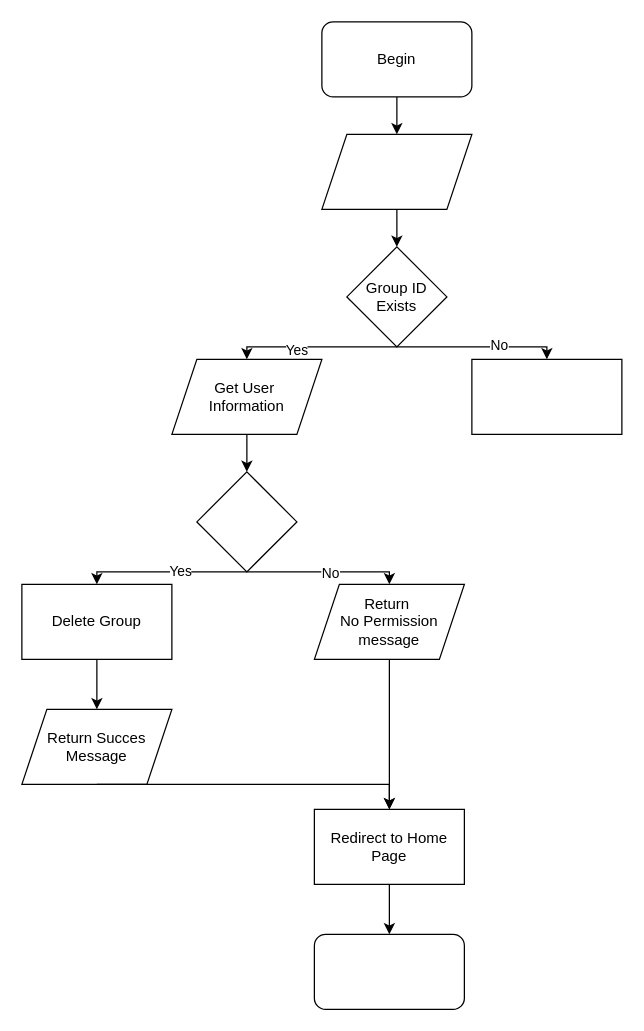
The diagram is 644 pixels wide and 1031 high, and some of its shapes have lost their labels. Here are the shapes that lost their labels. From the top down, the box of each, then its label:
(321, 133, 472, 209): Get Group ID
(471, 358, 622, 434): Return 404 Error
(196, 471, 297, 572): User Is Group Admin
(313, 933, 464, 1009): End
